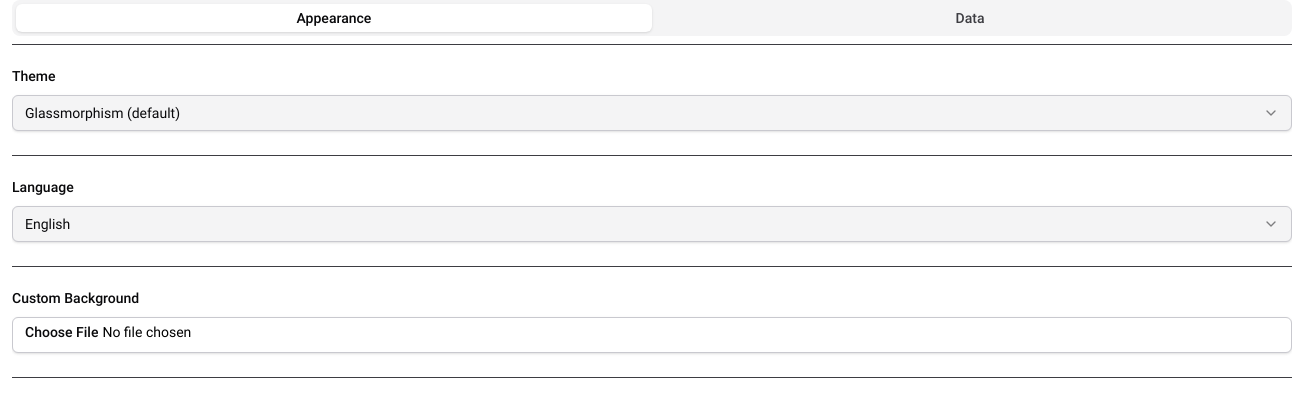
Settings › should show Data tab content when Data tab is active
The width and height of the screenshot is (1304, 395).
Click the tab with test id "settings-tab-data" at (970, 18), box [652,4,1288,32]
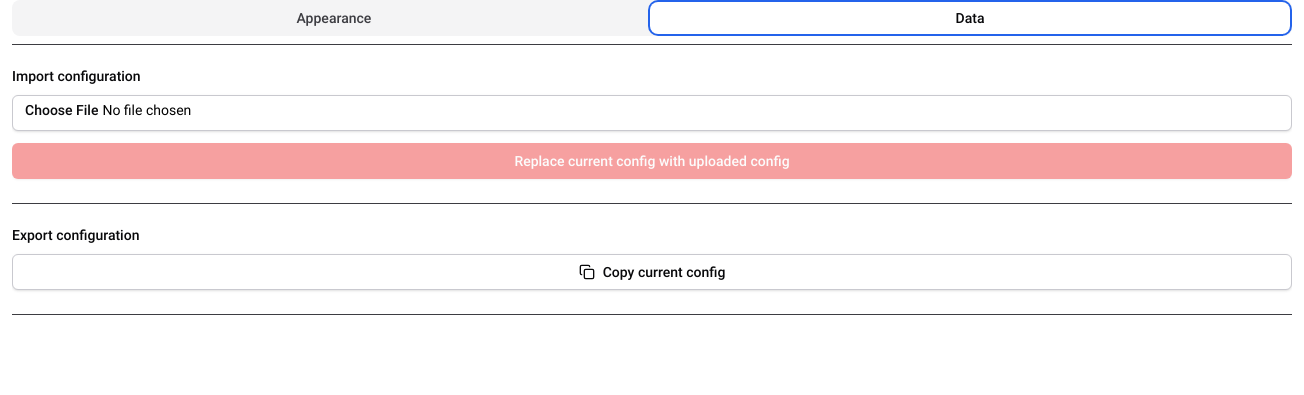
Now the text "Import configuration" is shown, box [12,68,141,84]
Now the text "Export configuration" is shown, box [12,227,140,243]
